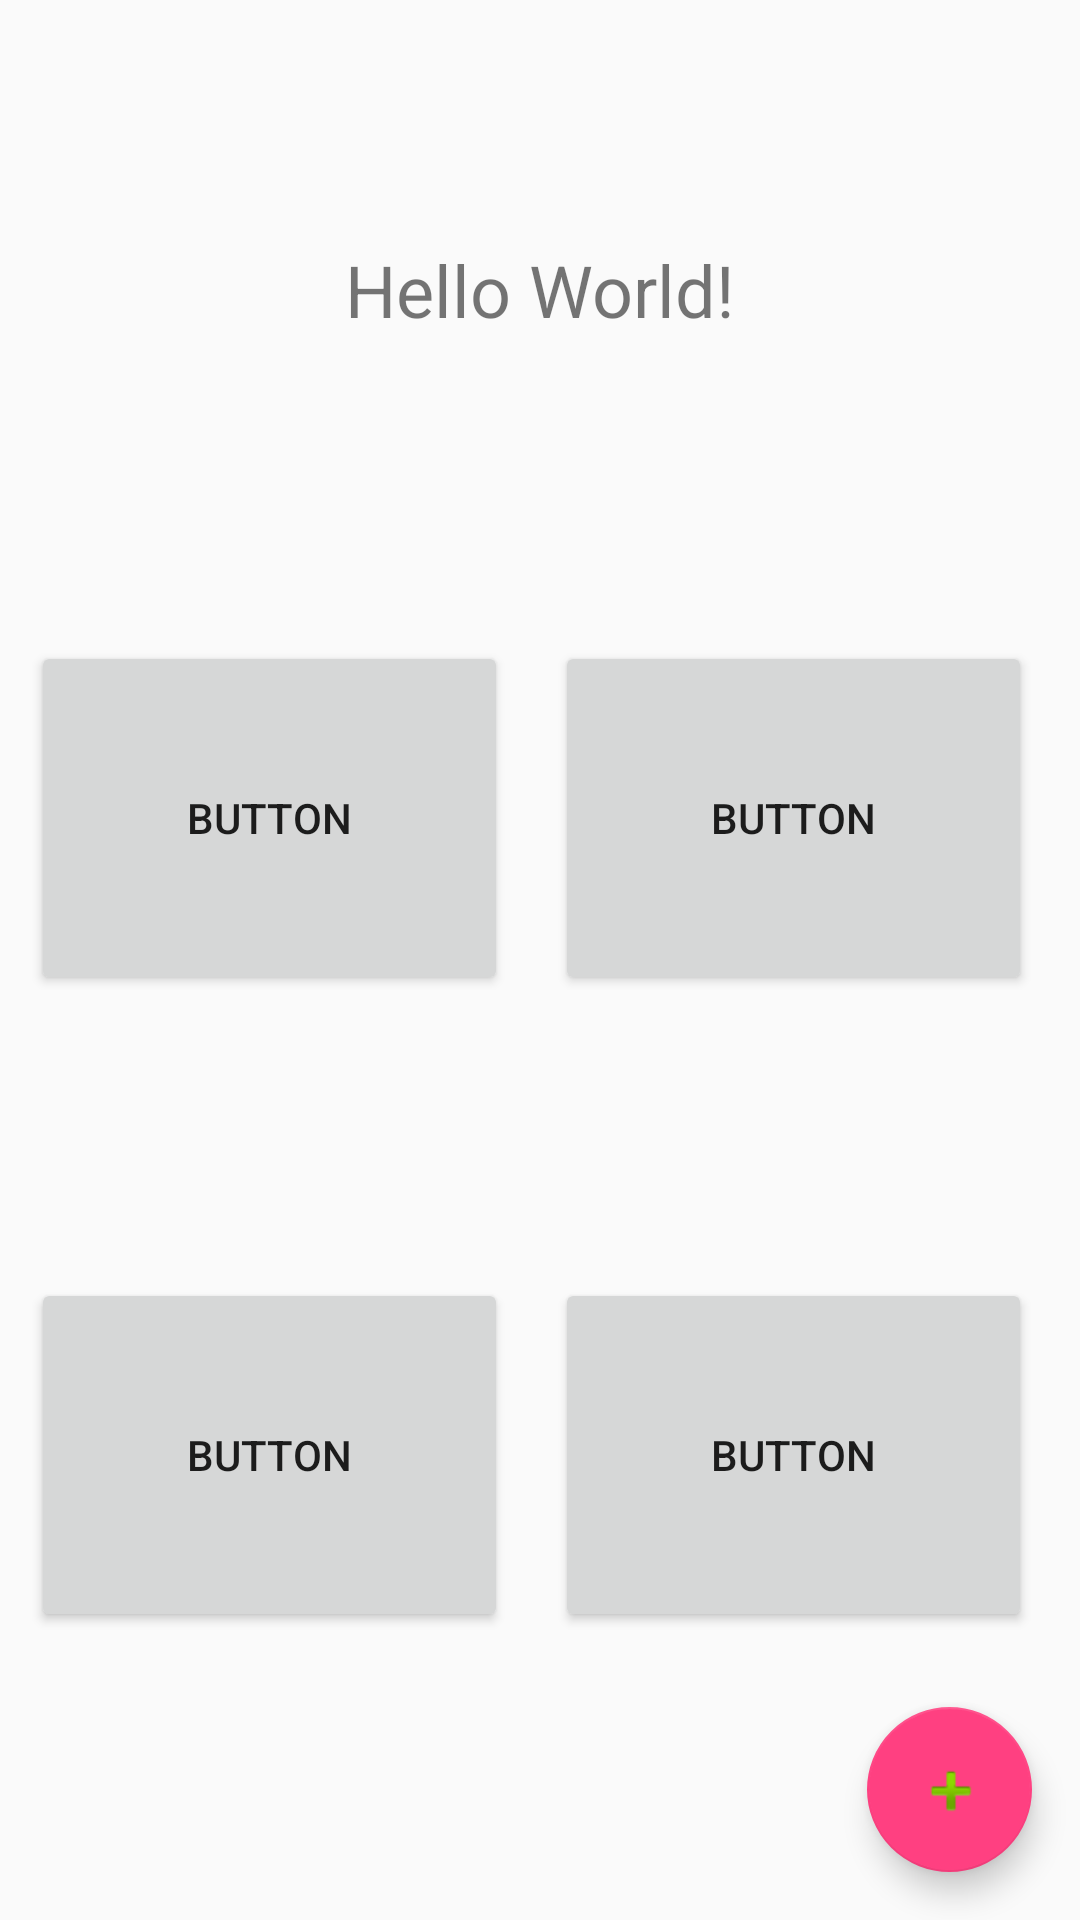

Where to tap for icons on this 1080*1920 app screen, as (x,y):
add: (949,1789)
